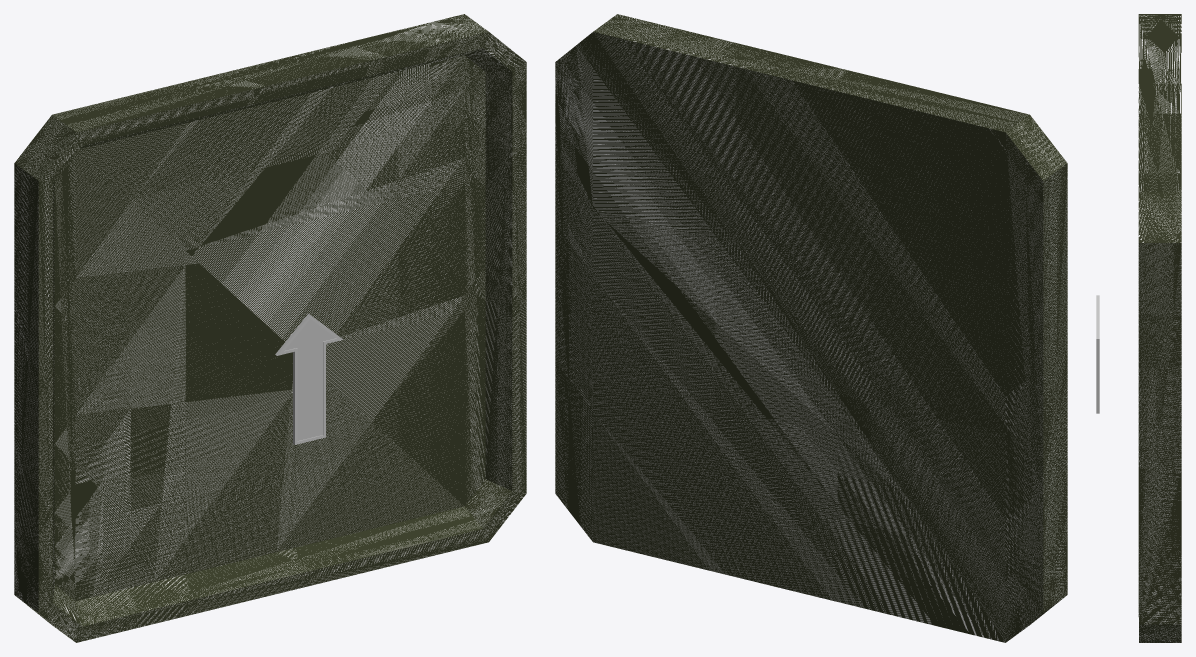
Rendered from CM_-_Ground_Axis_of_Advance.obj.
3 views of the same model, side by side, from view 1: azimuth 30°, elevation 25°; view 2: azimuth 150°, elevation 25°; view 3: azimuth 270°, elevation 25° (orthographic). The views are drawn at different scales.
Parts seen in each view (by area): view 1: Button.001_ID13, Button_ID3, SM_CM_-_Ground_Axis_of_Advance_mesh.024; view 2: Button_ID3; view 3: Button_ID3, SM_CM_-_Ground_Axis_of_Advance_mesh.024.
Part boxes in pixels (x1=…): Button.001_ID13: x1=53, y1=48, x2=512, y2=626; Button_ID3: x1=14, y1=14, x2=526, y2=642; SM_CM_-_Ground_Axis_of_Advance_mesh.024: x1=275, y1=313, x2=343, y2=444; Button_ID3: x1=555, y1=14, x2=1067, y2=642; Button_ID3: x1=1138, y1=14, x2=1181, y2=642; SM_CM_-_Ground_Axis_of_Advance_mesh.024: x1=1096, y1=295, x2=1099, y2=413.
Size of the model in its own units: 1 by 1 by 0.1721.
